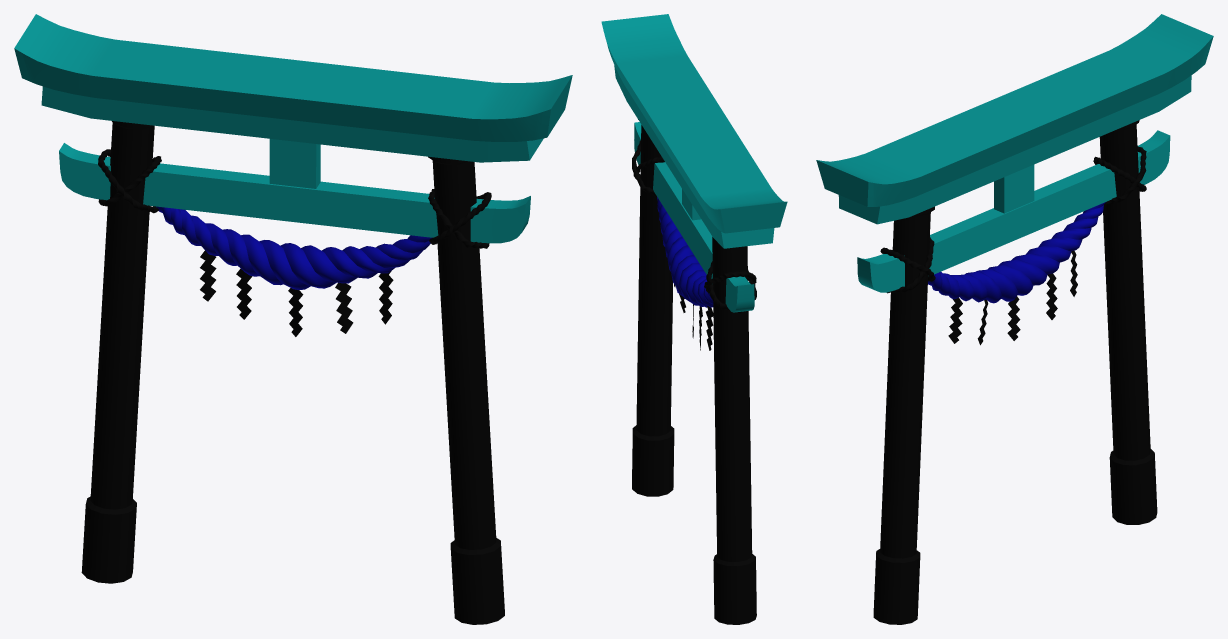
Rendered from SM_ENV_LKNVLD_Shop_Tori.gltf.
3 views of the same model, side by side, from view 1: azimuth 30°, elevation 25°; view 2: azimuth 150°, elevation 25°; view 3: azimuth 270°, elevation 25° (orthographic). The views are drawn at different scales.
Parts seen in each view (by area): view 1: SM_ENV_LKNVLD_Shop_Tori; view 2: SM_ENV_LKNVLD_Shop_Tori; view 3: SM_ENV_LKNVLD_Shop_Tori.
Boxes of the visible parts, <box> form: SM_ENV_LKNVLD_Shop_Tori: <box>14,14,572,624</box>; SM_ENV_LKNVLD_Shop_Tori: <box>601,14,787,624</box>; SM_ENV_LKNVLD_Shop_Tori: <box>816,14,1213,624</box>.
Size of the model in its own units: 8.12 by 10.56 by 8.12.
